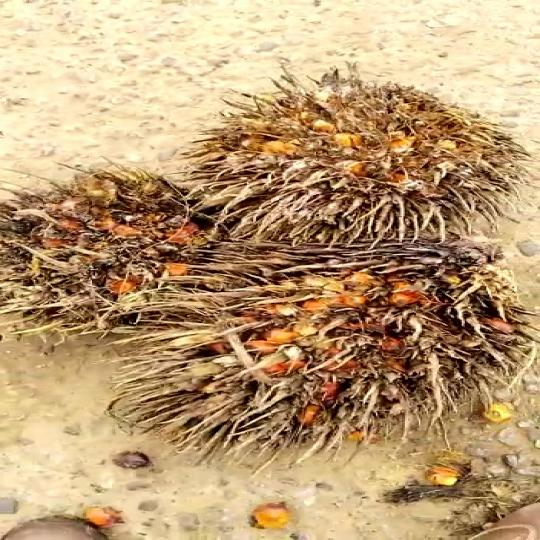terlalu masak: (122, 232, 532, 445), (184, 81, 516, 249), (0, 166, 279, 334)
